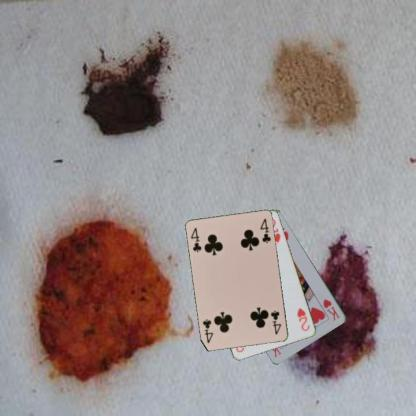2h: (295, 306, 311, 332)
4c: (188, 225, 203, 254), (268, 308, 283, 336)
Kh: (320, 296, 341, 322)
